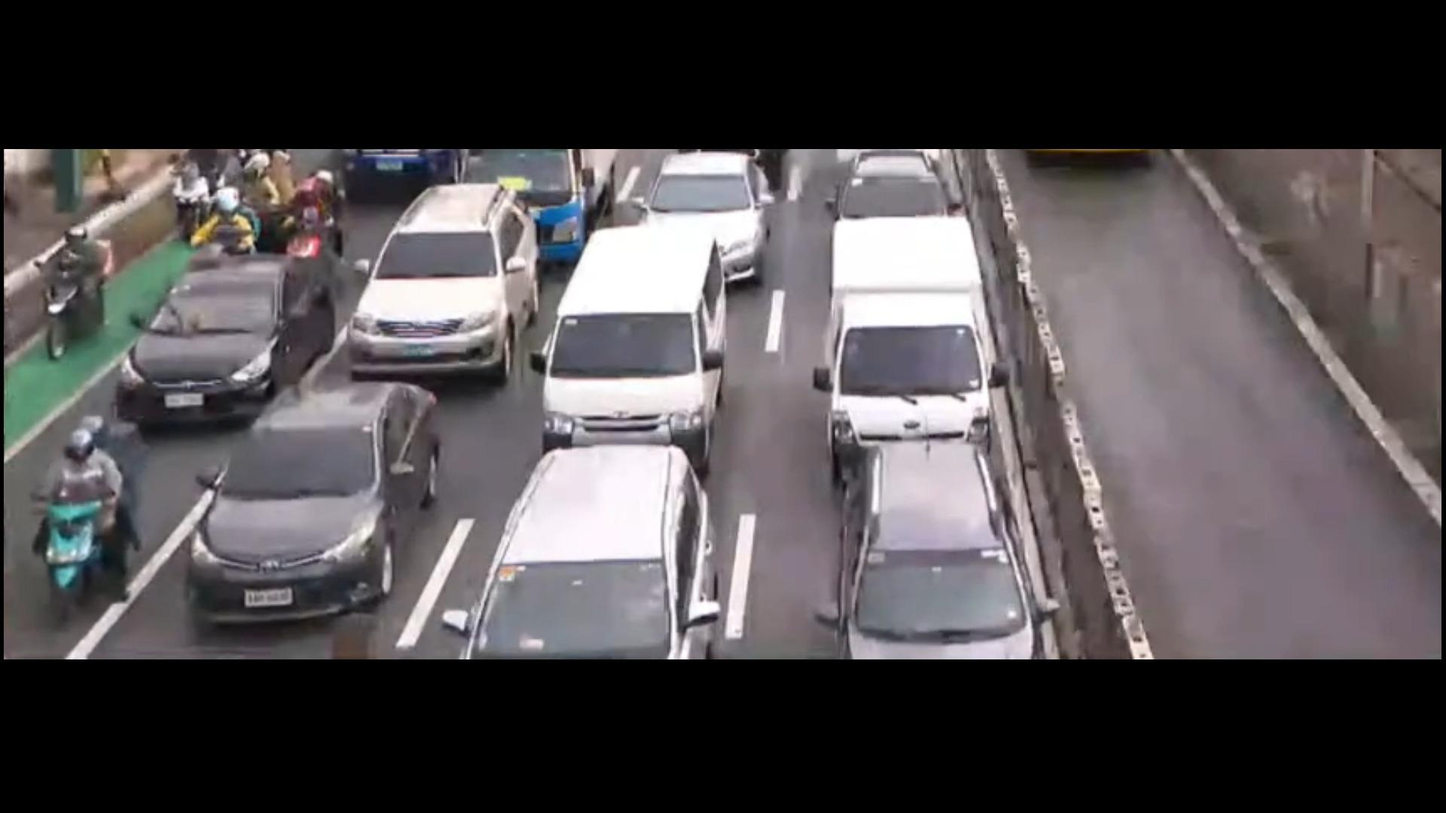Motorcycle: (36, 429, 128, 598), (277, 154, 352, 311), (36, 226, 111, 367), (179, 179, 252, 254)
SUV: (446, 416, 715, 655), (827, 412, 1045, 655), (350, 184, 535, 371)
Sedan: (194, 397, 433, 615), (122, 262, 341, 423)
Truck: (819, 211, 998, 476)
Van: (525, 230, 740, 444)
